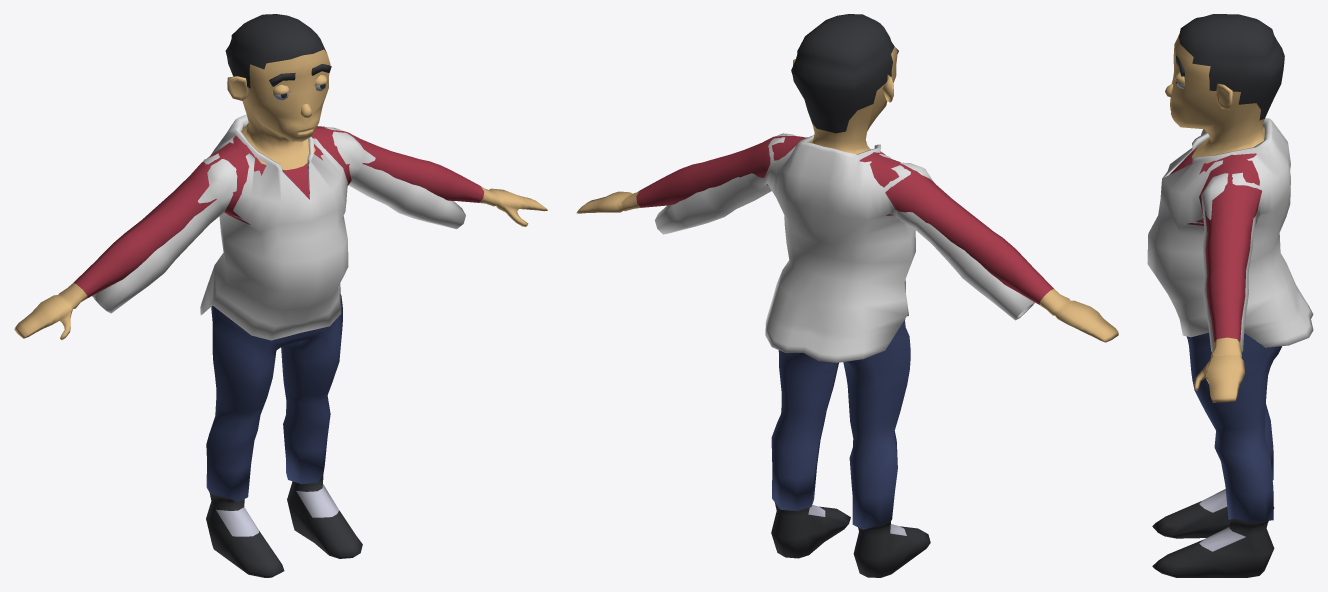
Rendered from Personagem1_ThiagoGedeon.fbx_Personagem1.fbx.
The picture shows the model from 3 angles, left to right: view 1: azimuth 30°, elevation 25°; view 2: azimuth 150°, elevation 25°; view 3: azimuth 270°, elevation 25°; orthographic projection.
Parts seen in each view (by area): view 1: Corpo principal, Roupa; view 2: Corpo principal, Roupa; view 3: Corpo principal, Roupa.
Boxes of the visible parts, <box> form: Corpo principal: <box>14,14,547,577</box>; Roupa: <box>92,114,465,340</box>; Corpo principal: <box>576,14,1118,577</box>; Roupa: <box>655,133,1034,362</box>; Corpo principal: <box>1152,14,1284,577</box>; Roupa: <box>1147,118,1313,352</box>.
Bounding box in the file's own units: 179 × 171 × 48.3.
